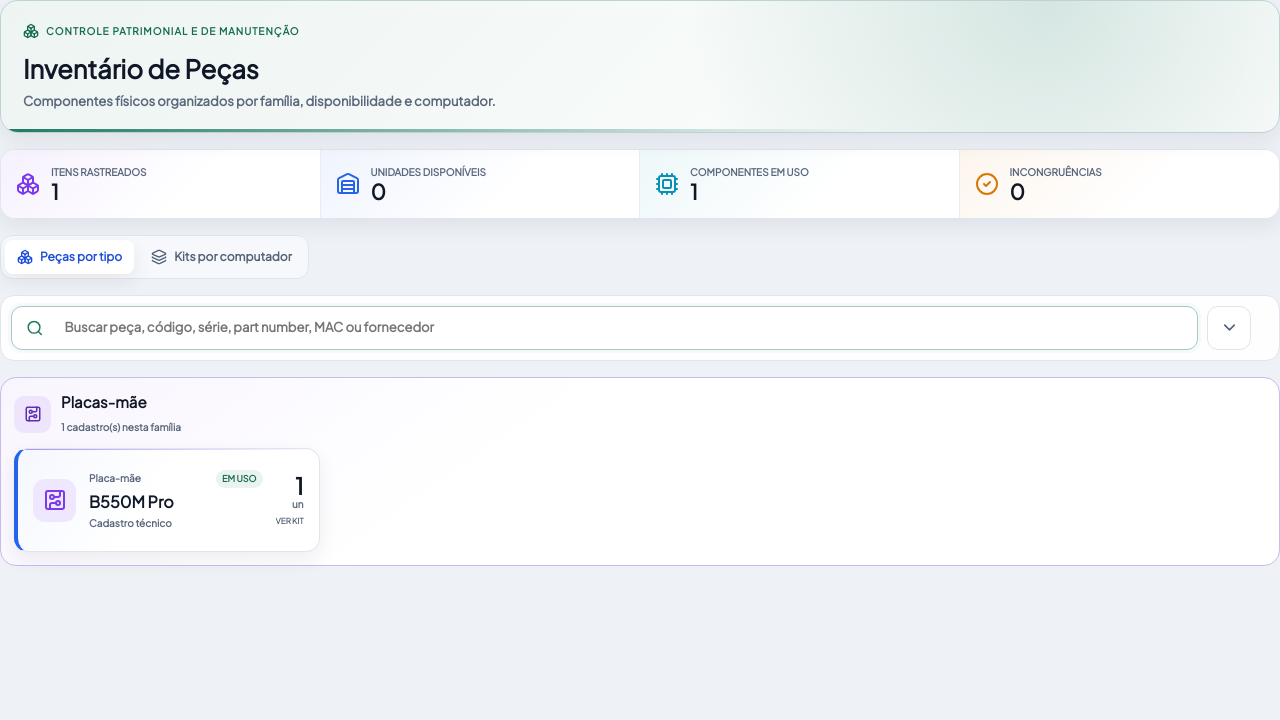
Test: PartsInventoryPage › leva uma peça instalada diretamente ao kit da máquina
The image size is (1280, 720).
Click the button "B550M Pro": (167, 500) [14, 448, 320, 552]
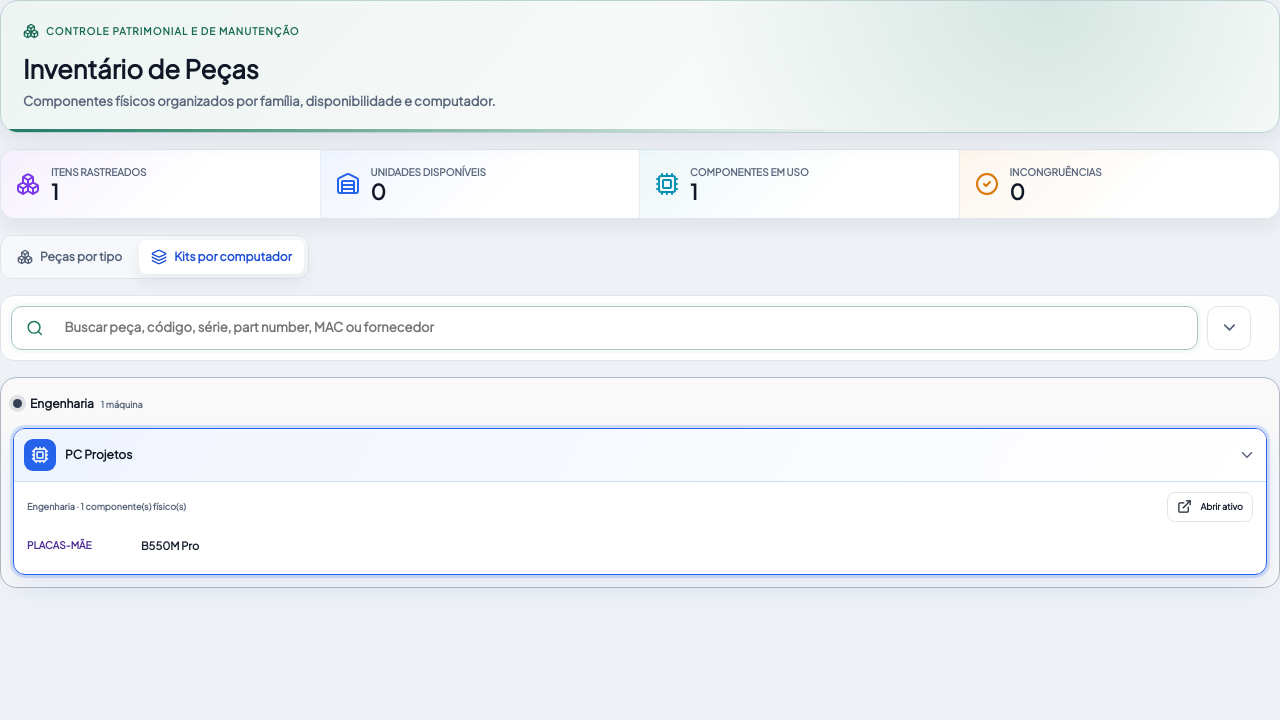
Check: the text "PC Projetos" is shown, box [65, 447, 132, 462]
Check: the element with class "is-focused" is shown, box [13, 428, 1267, 576]
